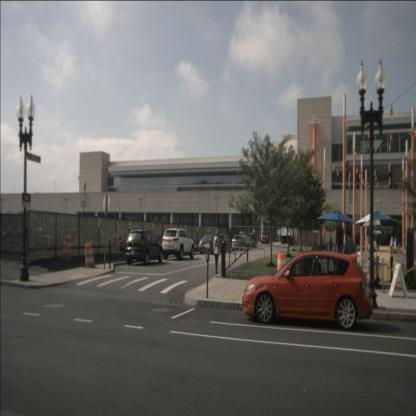human-pedestrian-adult: (343, 233, 355, 285), (212, 230, 222, 274), (390, 236, 394, 256), (329, 236, 333, 256)
movable_object-trafficcone: (84, 241, 95, 269), (295, 252, 305, 282), (62, 234, 73, 260), (277, 251, 286, 280)
vehicle-car: (242, 250, 373, 330), (125, 228, 163, 265), (162, 228, 194, 260), (198, 234, 225, 255), (215, 234, 232, 254), (231, 235, 247, 252), (244, 233, 257, 249), (261, 230, 270, 244)
